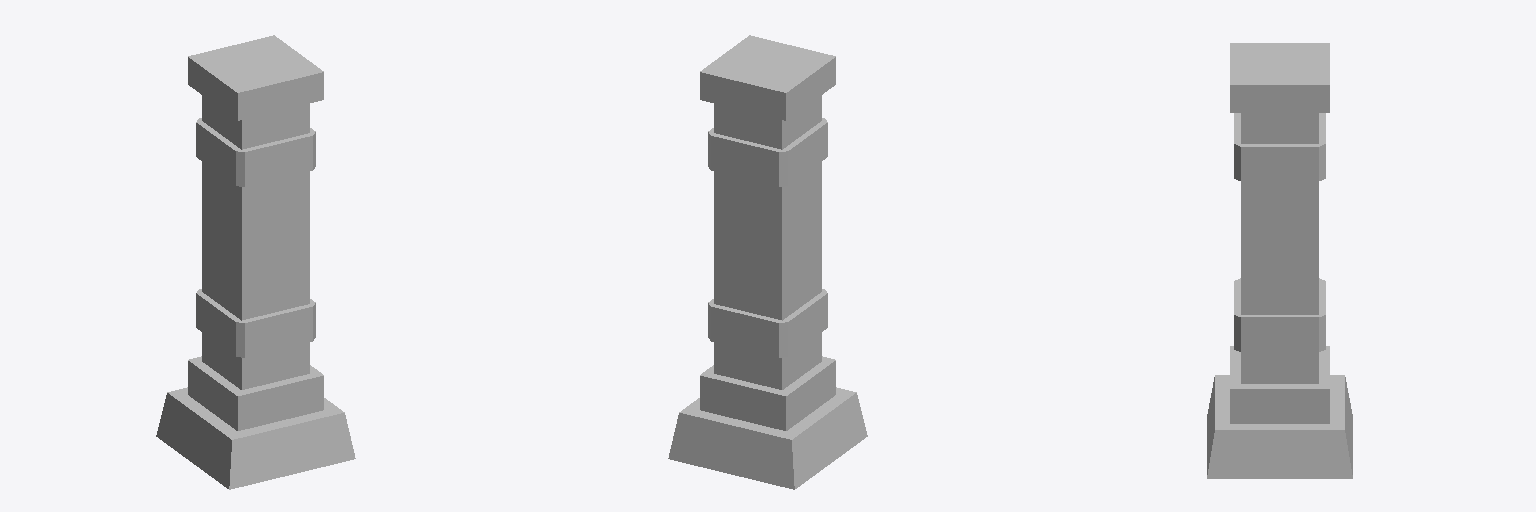
The model's file is columnLarge.obj.
The picture shows the model from 3 angles: view 1: azimuth 30°, elevation 25°; view 2: azimuth 150°, elevation 25°; view 3: azimuth 270°, elevation 25°; orthographic projection.
Parts seen in each view (by area): view 1: columnLarge; view 2: columnLarge; view 3: columnLarge.
Part boxes in pixels (left/top/right/bottom): columnLarge: left=156, top=35, right=355, bottom=489; columnLarge: left=668, top=35, right=867, bottom=489; columnLarge: left=1207, top=43, right=1352, bottom=478.
Bounding box in the file's own units: 0.38 × 1.1 × 0.38.